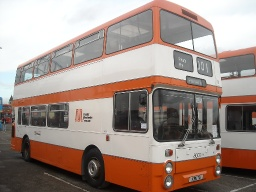bus: (11, 1, 224, 191)
